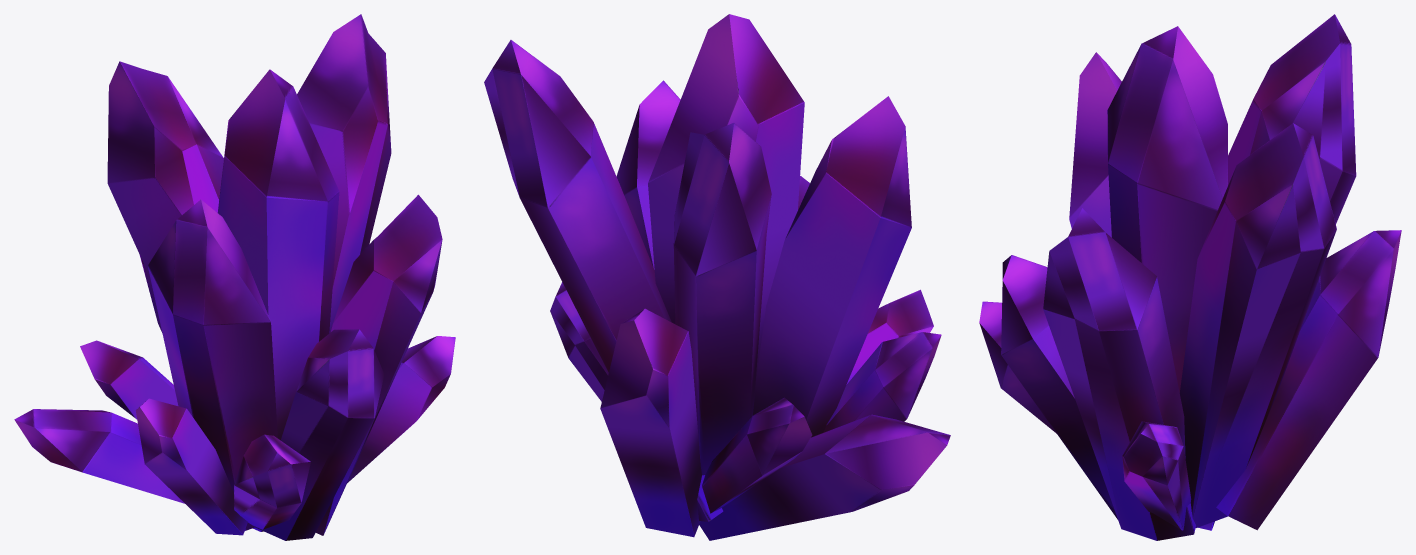
File: CRYSTALS.fbx
The picture shows the model from 3 angles, left to right: view 1: azimuth 30°, elevation 25°; view 2: azimuth 150°, elevation 25°; view 3: azimuth 270°, elevation 25°; orthographic projection. The views are drawn at different scales.
Parts seen in each view (by area): view 1: pCube13; view 2: pCube13; view 3: pCube13.
Part boxes in pixels (x1,y1,x2,y2): pCube13: [14, 14, 455, 540]; pCube13: [484, 14, 950, 540]; pCube13: [979, 14, 1401, 540].
Bounding box in the file's own units: 18.05 × 20.34 × 15.46.
